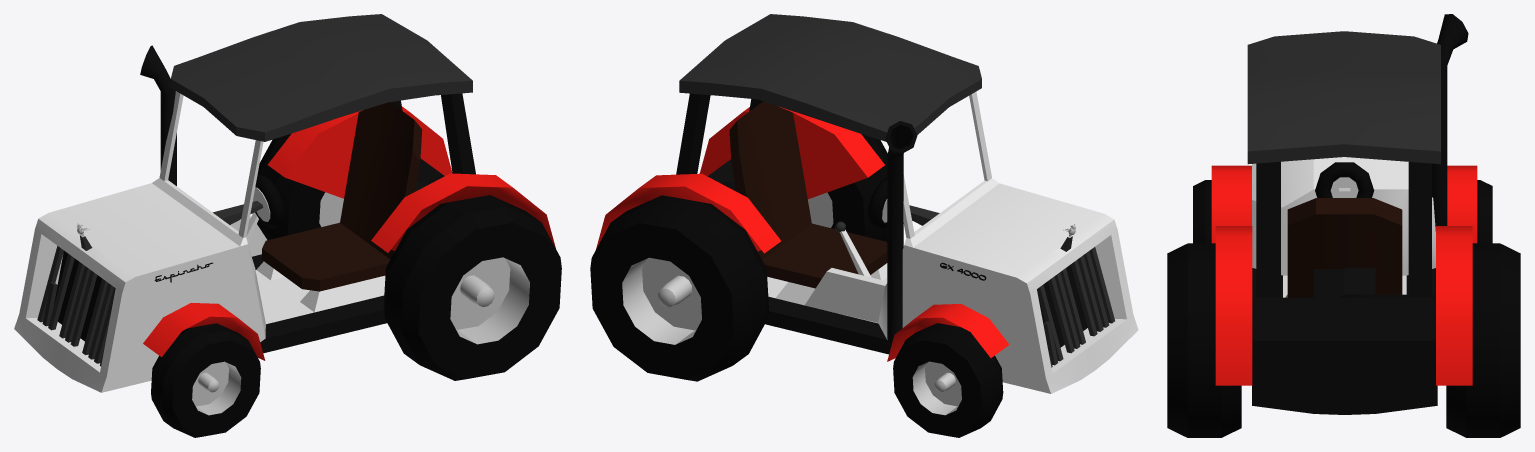
Rendered from Tracteur.FBX.
3 renders of one model, left to right at view 1: azimuth 30°, elevation 25°; view 2: azimuth 150°, elevation 25°; view 3: azimuth 270°, elevation 25°, orthographic. The views are drawn at different scales.
Visible parts, largest first — view 1: Box001, Cylinder003, Box015, Box002, Cylinder001, Cylinder004, Box014, Cylinder002, Tube001, Torus001; view 2: Box001, Cylinder003, Box015, Box002, Cylinder001, Cylinder004, Box014, Tube001, Cylinder002, Torus001; view 3: Box001, Box015, Cylinder003, Cylinder001, Box002, Cylinder002, Tube001, Cylinder004, Torus001, Cylinder005.
Part boxes in pixels (<box>): Box001: <box>14,91,475,392</box>; Cylinder003: <box>252,133,561,380</box>; Box015: <box>170,14,472,141</box>; Box002: <box>262,102,422,291</box>; Cylinder001: <box>267,106,555,252</box>; Cylinder004: <box>151,323,260,437</box>; Box014: <box>37,246,115,366</box>; Cylinder002: <box>143,303,265,360</box>; Tube001: <box>140,45,176,185</box>; Torus001: <box>255,175,284,228</box>; Box001: <box>676,92,1138,393</box>; Cylinder003: <box>590,134,887,381</box>; Box015: <box>679,14,981,141</box>; Box002: <box>729,101,887,288</box>; Cylinder001: <box>596,106,884,253</box>; Cylinder004: <box>893,323,1003,437</box>; Box014: <box>1037,247,1114,367</box>; Tube001: <box>885,121,917,346</box>; Cylinder002: <box>887,304,1009,361</box>; Torus001: <box>868,177,887,228</box>; Box001: <box>1252,157,1437,414</box>; Box015: <box>1247,31,1440,164</box>; Cylinder003: <box>1167,243,1520,437</box>; Cylinder001: <box>1215,226,1472,385</box>; Box002: <box>1287,198,1402,297</box>; Cylinder002: <box>1211,165,1477,243</box>; Tube001: <box>1432,14,1468,230</box>; Cylinder004: <box>1193,180,1492,243</box>; Torus001: <box>1315,162,1374,197</box>; Cylinder005: <box>1330,177,1358,197</box>.
Size of the model in its own units: 130 by 81.87 by 84.66.
